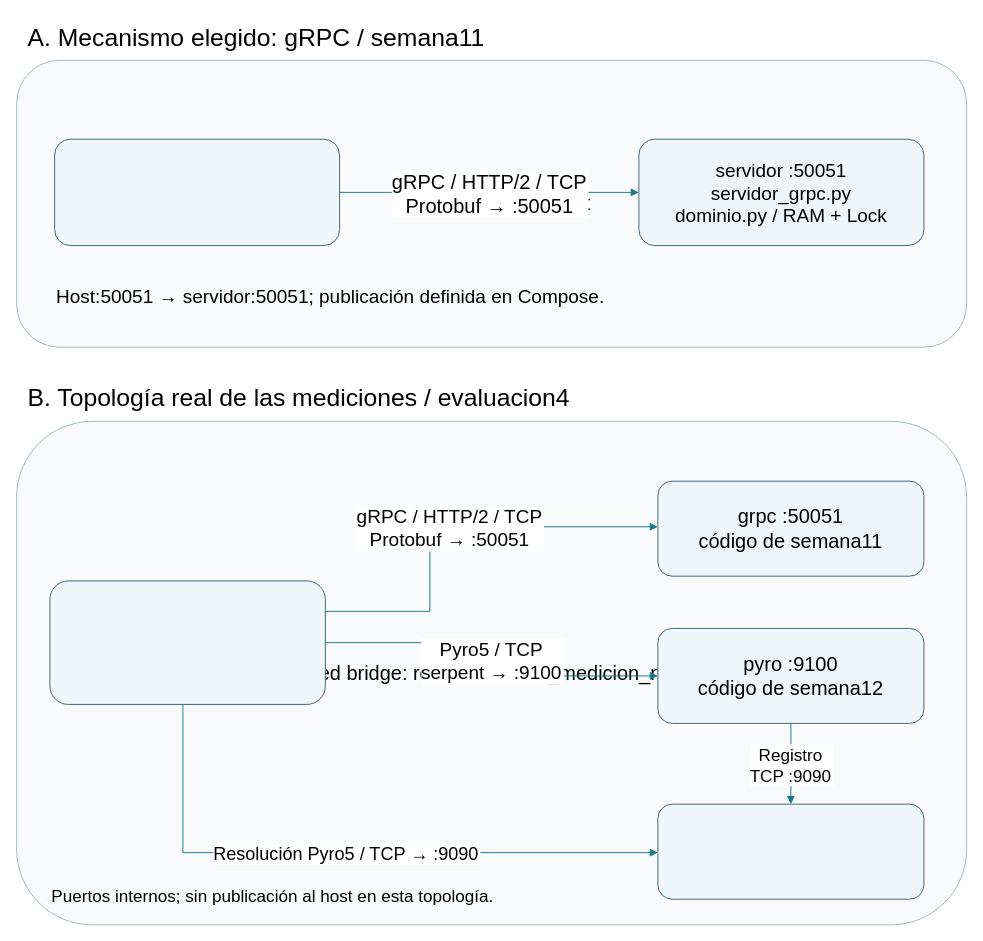
Some shapes in this 983 by 941 pixel diagram are drawn without their labels. Here are the shapes that lost their labels. From the top down, the centre of each, then its label:
[197,192]: cliente cliente_grpc.py sin puerto de escucha
[187,642]: cliente ejecutar_mediciones.py medir.py / 200 + 200
[790,851]: nombres :9090 directorio en RAM
